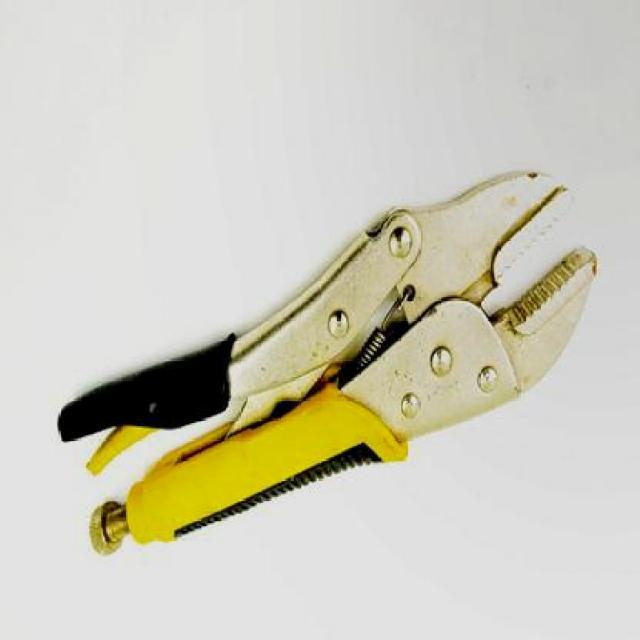pliers: (58, 172, 597, 574)
